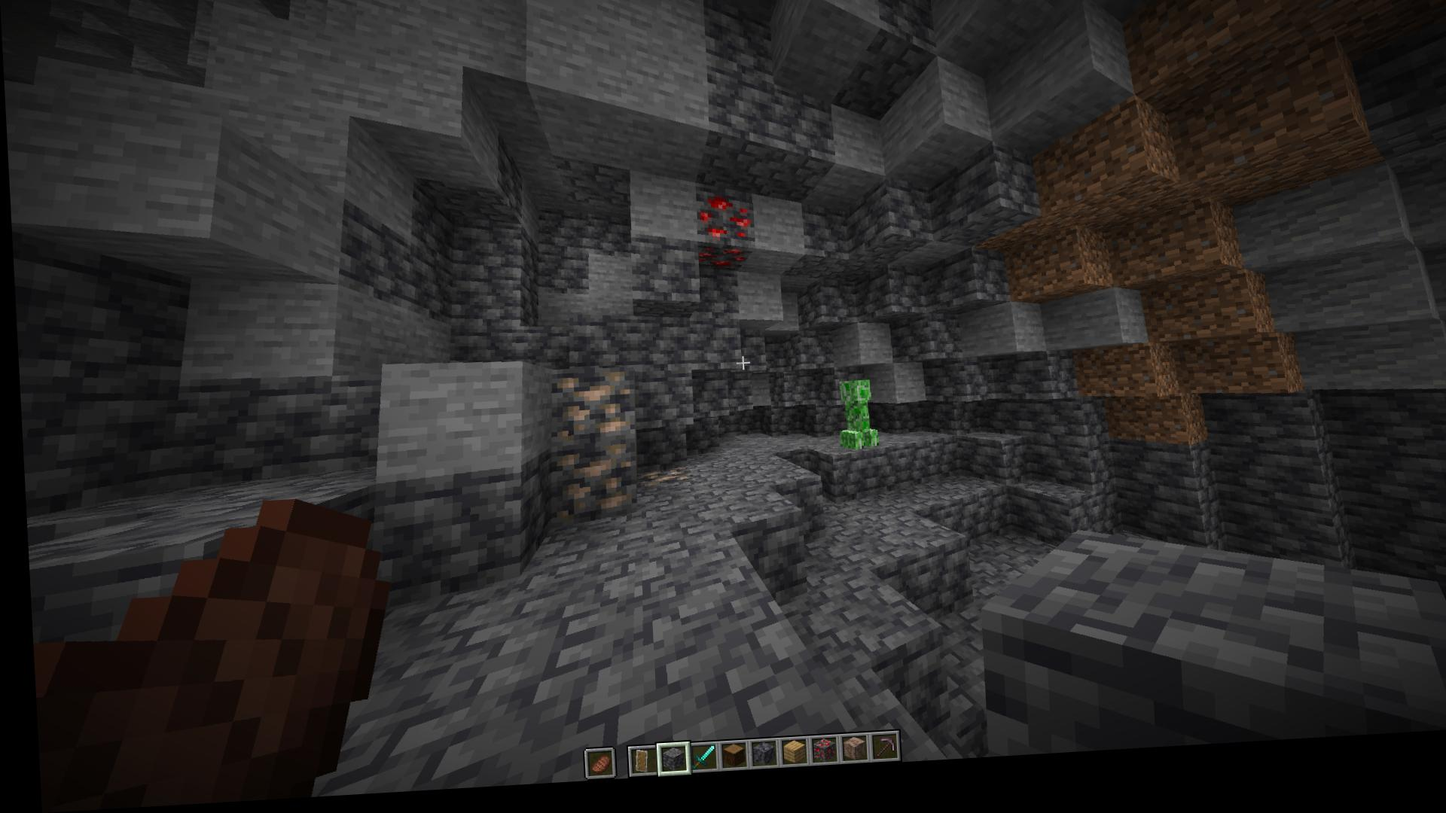iron ore: (543, 375, 633, 450), (543, 450, 629, 523), (635, 472, 687, 495)
redstone ore: (689, 195, 751, 254), (693, 252, 745, 282)
